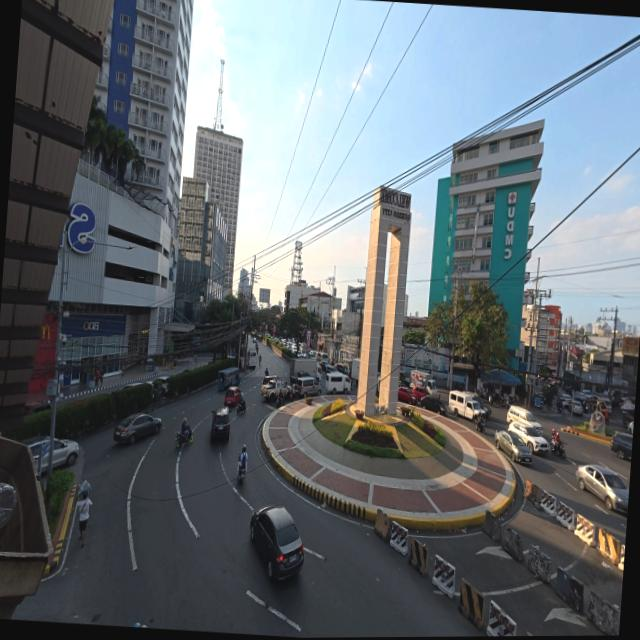car: (242, 505, 304, 586), (111, 410, 162, 448), (491, 426, 533, 465), (206, 406, 231, 442), (608, 432, 632, 460)
